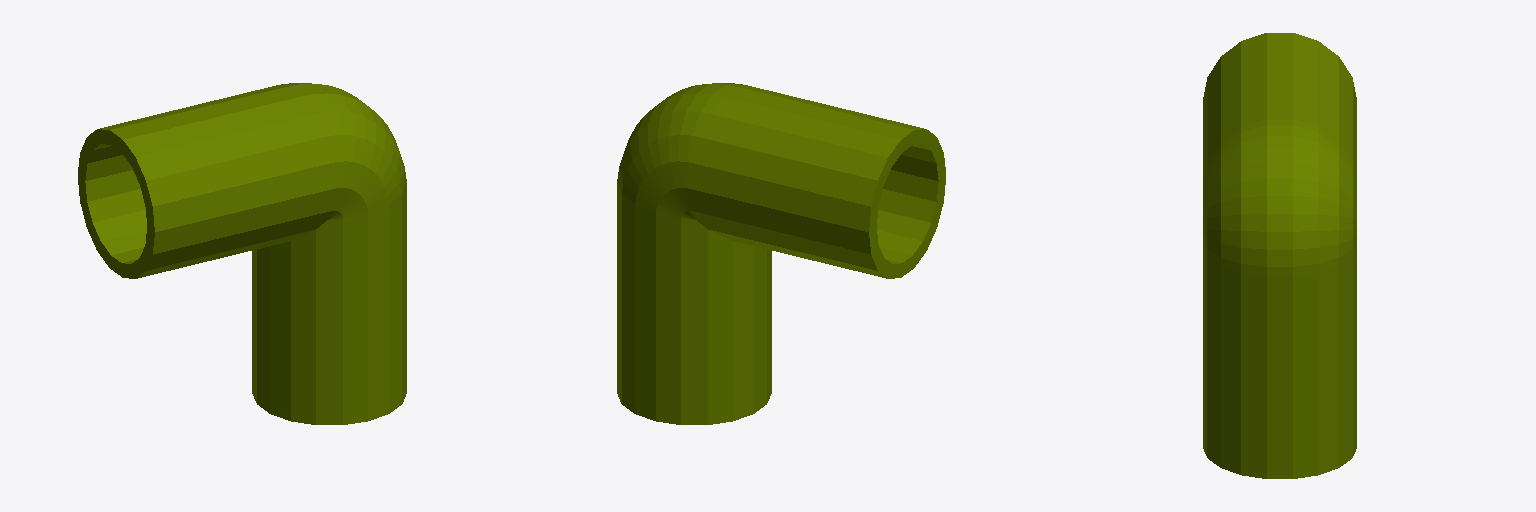
The model's file is elbow.obj.
The picture shows the model from 3 angles: view 1: azimuth 30°, elevation 25°; view 2: azimuth 150°, elevation 25°; view 3: azimuth 270°, elevation 25°; orthographic projection.
Parts seen in each view (by area): view 1: Tube001; view 2: Tube001; view 3: Tube001.
Part boxes in pixels (x1,y1,x2,y2): Tube001: (78, 83, 406, 424); Tube001: (617, 83, 945, 424); Tube001: (1203, 33, 1356, 478).
Size of the model in its own units: 52.09 by 55.27 by 25.